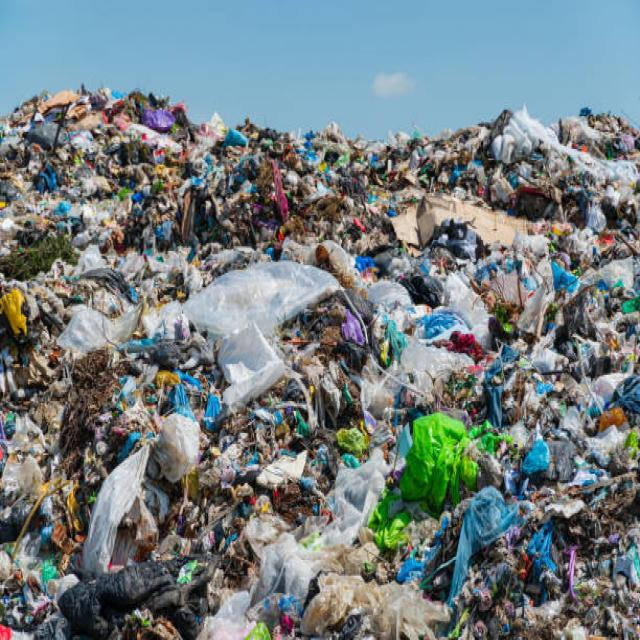plastic: (203, 286, 286, 368), (276, 557, 371, 627), (417, 425, 461, 493)
